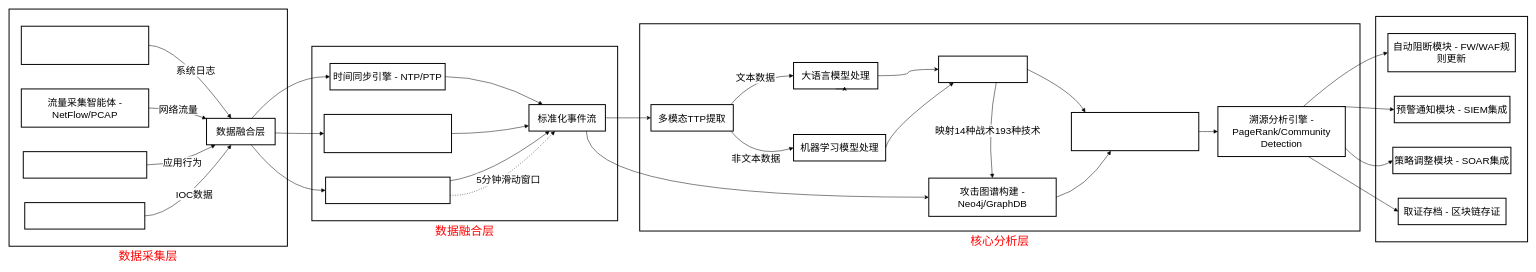
Some shapes in this 1536 by 272 pixel diagram are drawn without their labels. The box of each missing label's shape, as (x1, y1, x2, y2) in pixels:
ATT&CK框架映射: (938, 55, 1028, 83)
决策响应层: (1375, 16, 1528, 242)
威胁情报订阅 - STIX/TAXII: (24, 202, 145, 229)
日志采集智能体 - Syslog/ELK: (21, 25, 149, 65)
本体映射引擎 - CyberSecurity Ontology: (323, 114, 452, 153)
流式处理引擎 - Flink/Spark: (325, 176, 450, 204)
行为采集智能体 - EDR/XDR: (23, 151, 147, 178)
行为预测引擎 - LSTM/Transformer: (1071, 112, 1199, 151)
